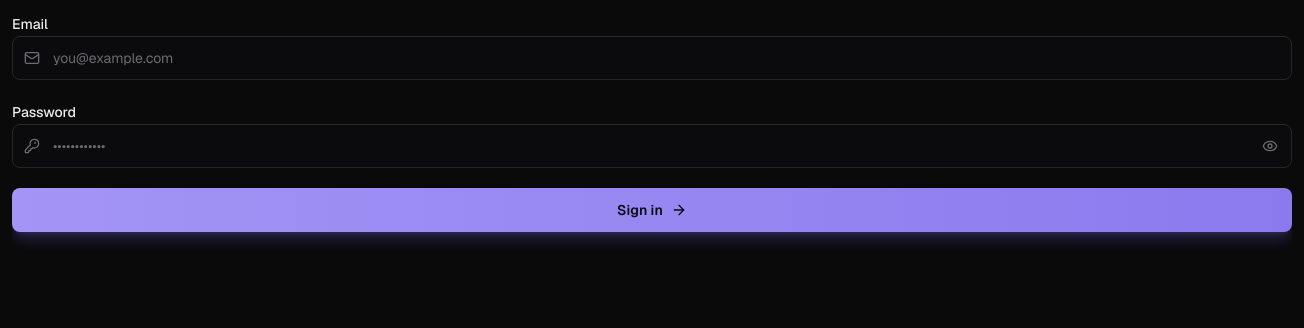
Test: LoginForm › explains rate limiting
The width and height of the screenshot is (1304, 328).
Type "owner@example.com" into the field labelled "Email".
click(652, 58); type("owner@example.com")  # box [12,36,1292,80]
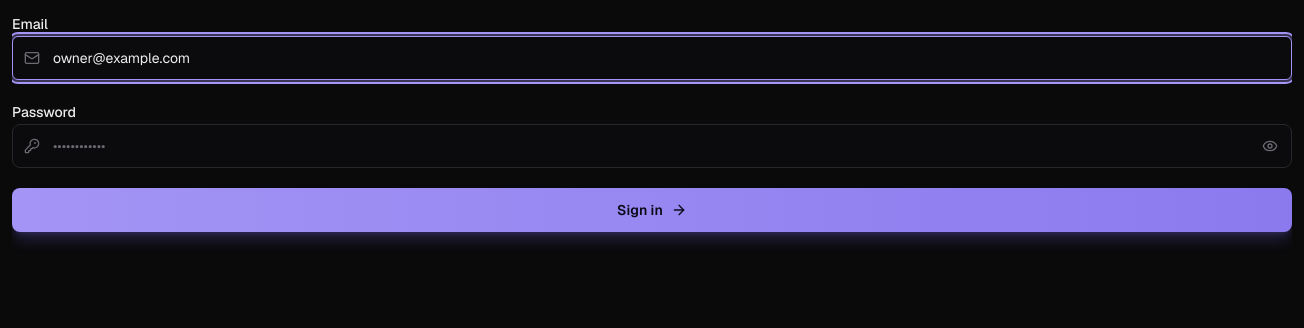
Type "x" into the password field labelled "Password".
click(652, 146); type("x")  # box [12,124,1292,168]
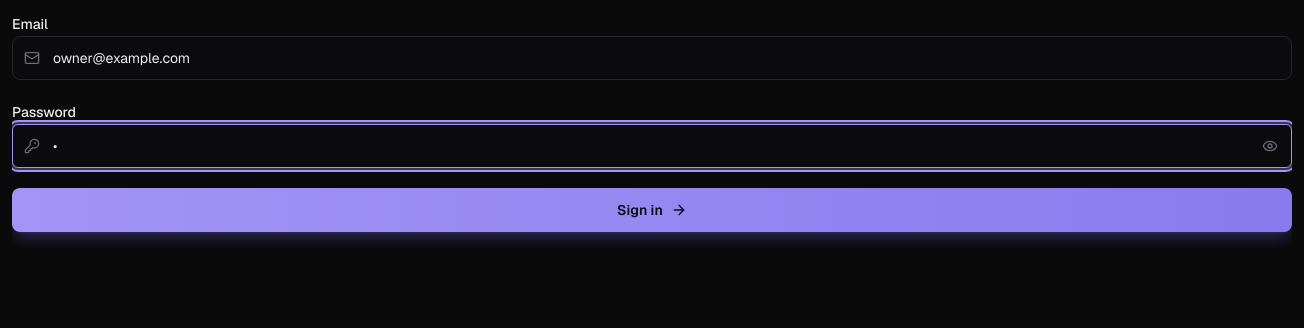
Click the button "Sign in".
click(652, 210)  # box [12,188,1292,232]
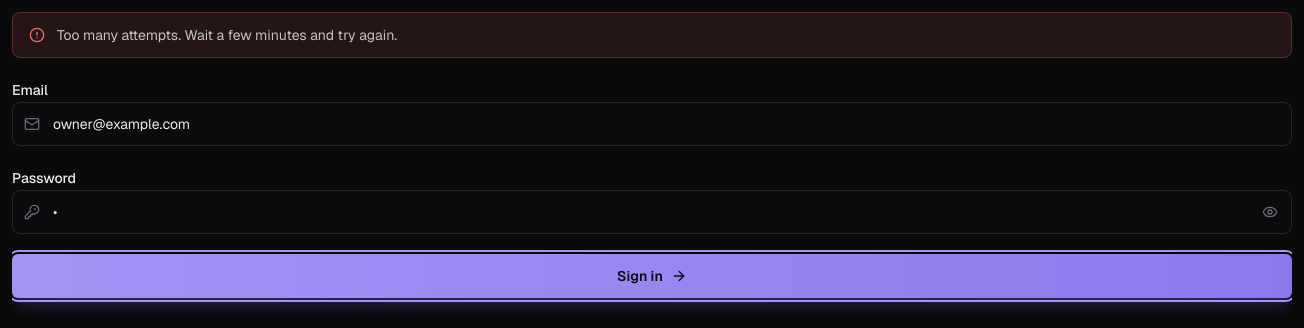
Now the message shows "Too many attempts", box [57,26,397,44]
